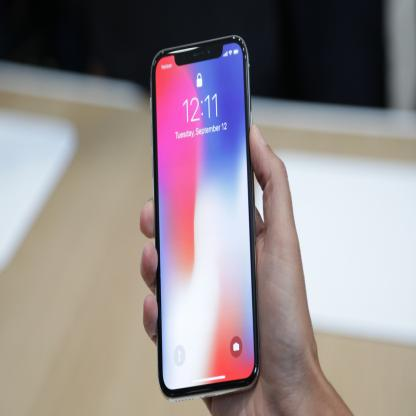smartphone: (150, 32, 261, 402)
